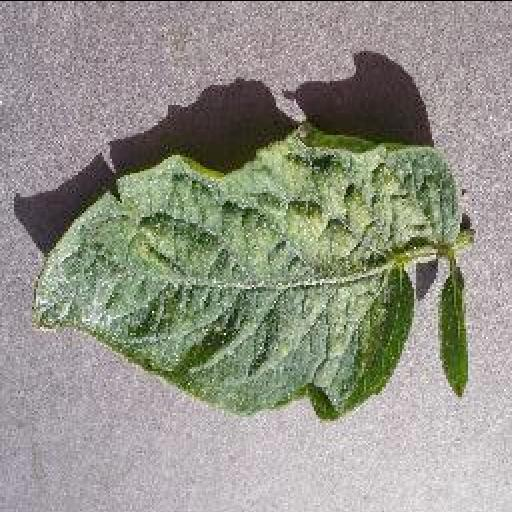disease_tomato: (31, 117, 469, 422)
